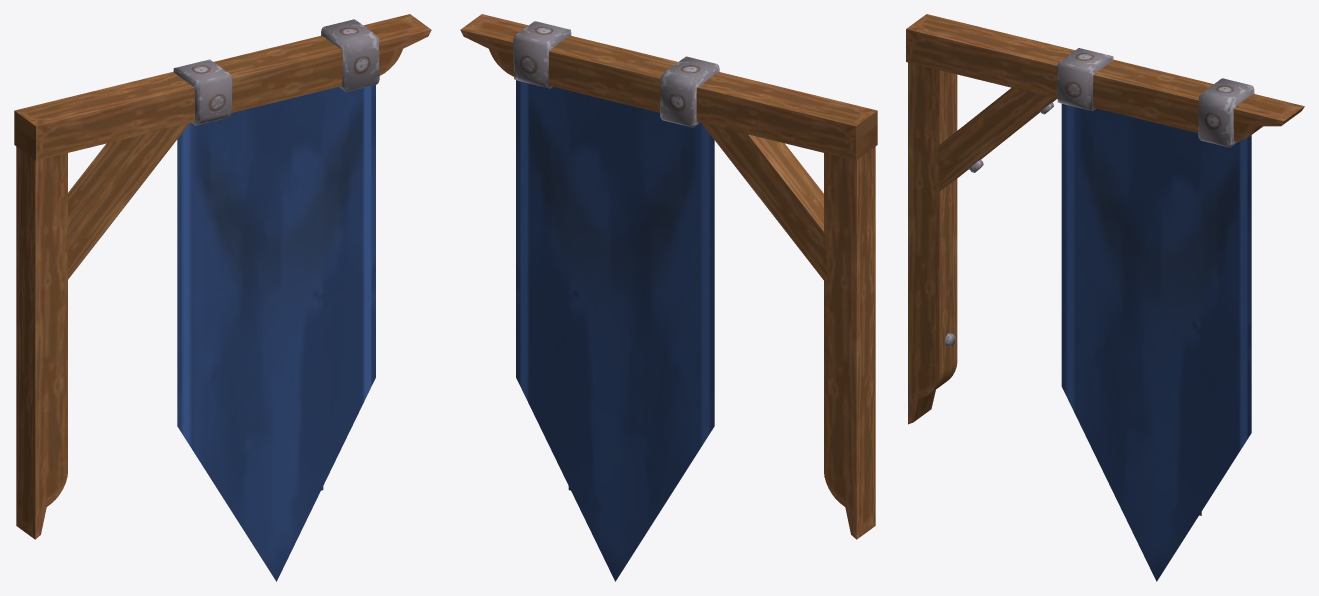
Rendered from Banner_2.glb.
3 renders of one model, left to right at view 1: azimuth 30°, elevation 25°; view 2: azimuth 150°, elevation 25°; view 3: azimuth 330°, elevation 25°, orthographic. The views are drawn at different scales.
Visible parts, largest first — view 1: Banner_2; view 2: Banner_2; view 3: Banner_2.
Part boxes in pixels (x1,y1,x2,y2): Banner_2: [14, 14, 431, 581]; Banner_2: [460, 14, 877, 581]; Banner_2: [906, 14, 1304, 581].
Bounding box in the file's own units: 1.61 × 2.08 × 0.1907.
Materials: 3 (3 with a texture image).
